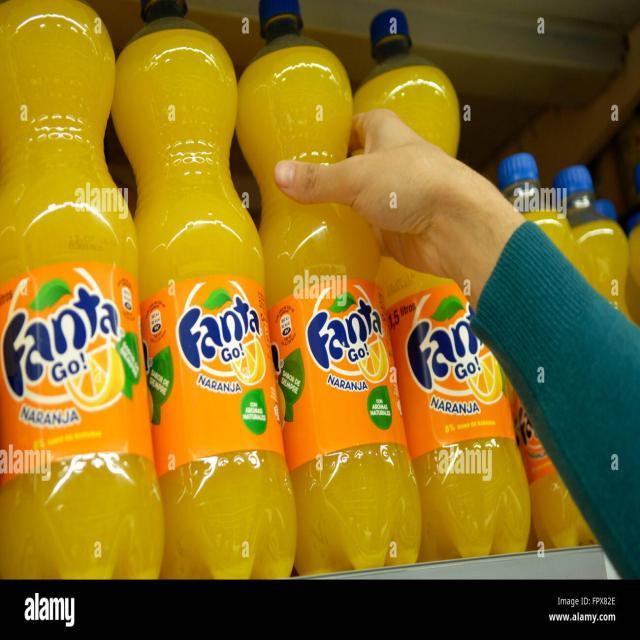Fanta: (115, 4, 300, 576), (235, 8, 421, 570), (1, 1, 169, 579)
